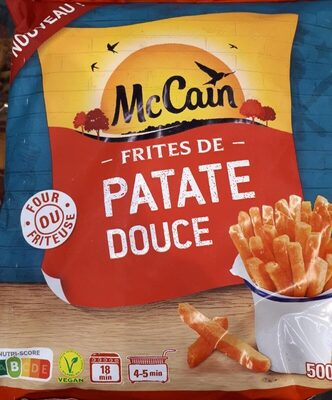Frites de patate douce: (17, 20, 315, 380)
